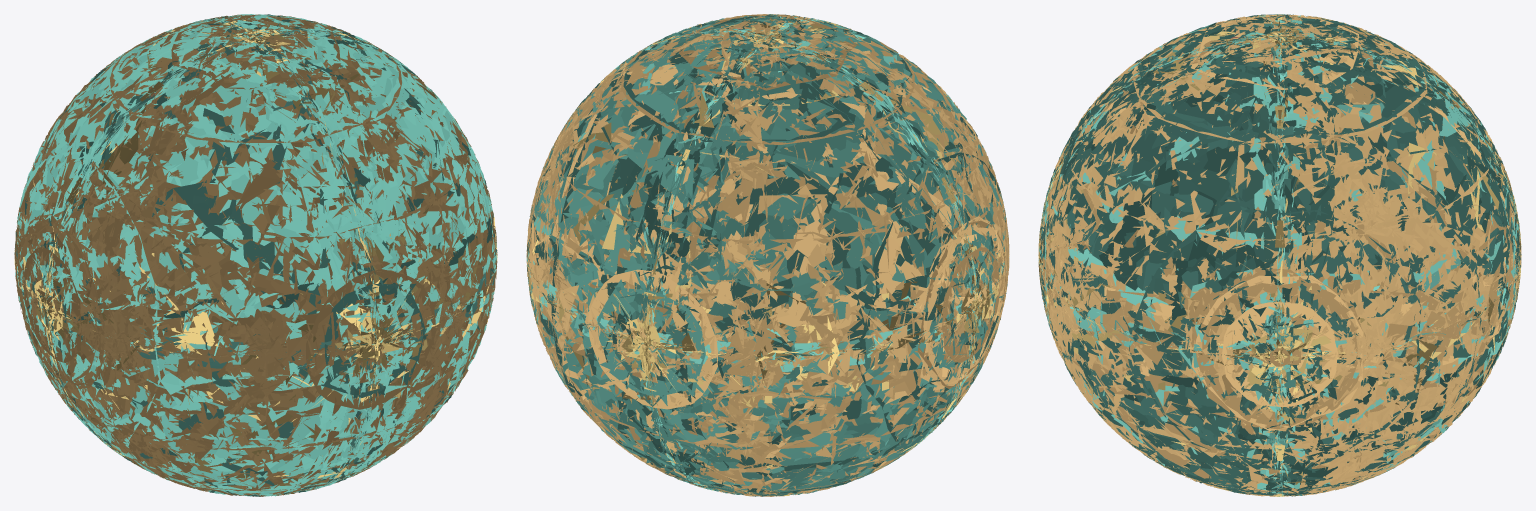
The picture shows the model from 3 angles, left to right: view 1: azimuth 30°, elevation 25°; view 2: azimuth 150°, elevation 25°; view 3: azimuth 270°, elevation 25°; orthographic projection.
Parts seen in each view (by area): view 1: 27-27-piping, 27-27-equipment, 27-27-e_i; view 2: 27-27-piping, 27-27-equipment, 27-27-e_i; view 3: 27-27-piping, 27-27-equipment, 27-27-e_i.
Part boxes in pixels (x1=…): 27-27-piping: x1=14, y1=14, x2=497, y2=496; 27-27-equipment: x1=14, y1=14, x2=497, y2=496; 27-27-e_i: x1=14, y1=17, x2=497, y2=493; 27-27-piping: x1=526, y1=14, x2=1009, y2=496; 27-27-equipment: x1=526, y1=14, x2=1009, y2=496; 27-27-e_i: x1=526, y1=15, x2=1008, y2=495; 27-27-piping: x1=1038, y1=14, x2=1521, y2=496; 27-27-equipment: x1=1038, y1=14, x2=1521, y2=496; 27-27-e_i: x1=1038, y1=14, x2=1521, y2=496.
Size of the model in its own units: 2 by 2 by 2.
